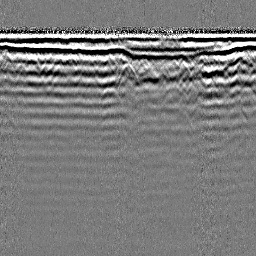cavity: (115, 62, 139, 87)
